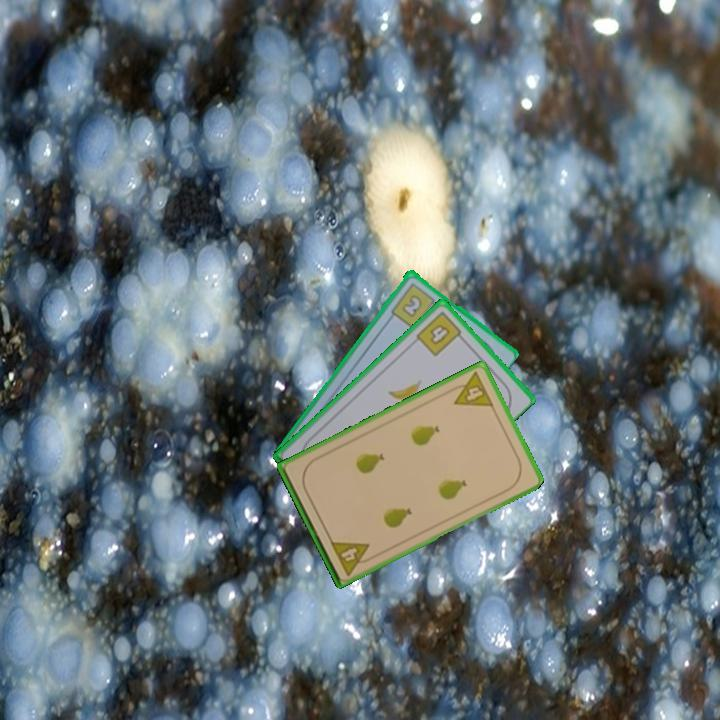2b: (387, 279, 441, 331)
4b: (412, 308, 467, 359)
4p: (445, 368, 496, 410), (327, 537, 377, 578)
